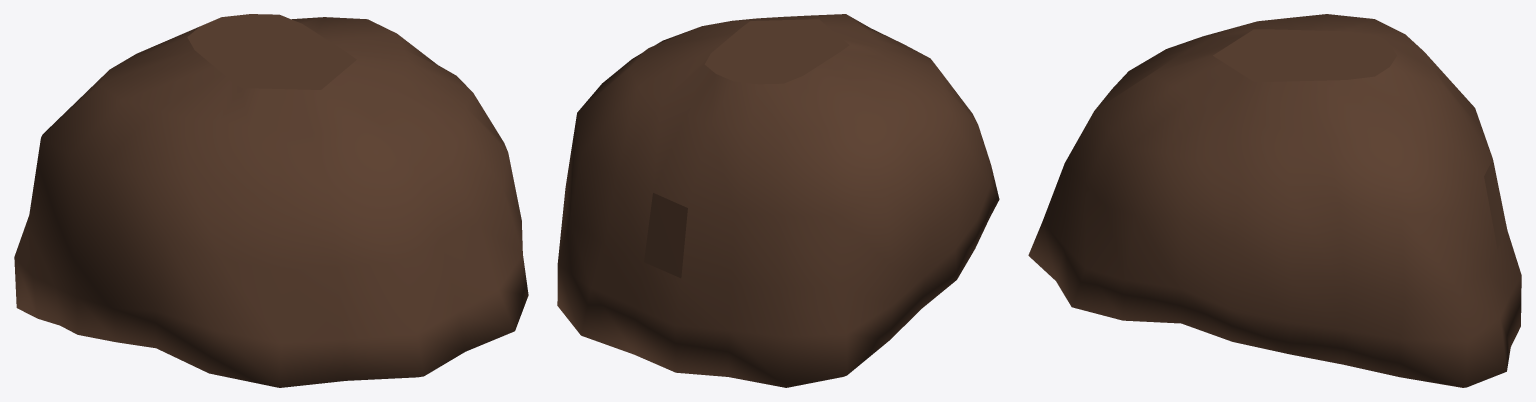
The model's file is topo_blocado.glb.
3 views of the same model, side by side, from view 1: azimuth 30°, elevation 25°; view 2: azimuth 150°, elevation 25°; view 3: azimuth 270°, elevation 25° (orthographic). The views are drawn at different scales.
Visible parts, largest first — view 1: EA_topo_blocado; view 2: EA_topo_blocado; view 3: EA_topo_blocado.
Part boxes in pixels (box(x1,y1,x2,y2)): EA_topo_blocado: box(14, 14, 528, 387); EA_topo_blocado: box(557, 14, 999, 387); EA_topo_blocado: box(1028, 14, 1521, 387).
Size of the model in its own units: 0.236 by 0.1595 by 0.2637.
